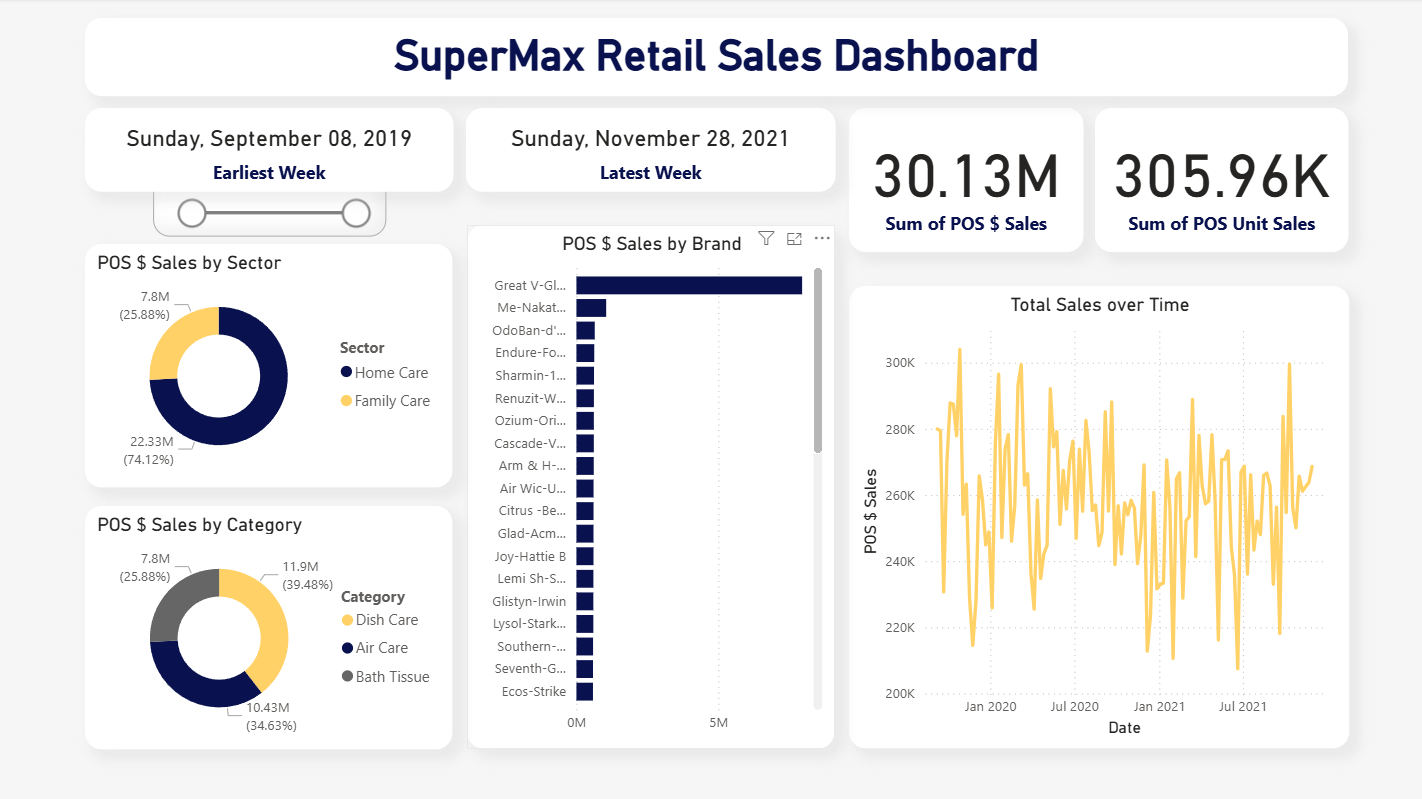

The page's visual inventory and layout, read from the dashboard file:
{"tool":"powerbi","page":{"name":"Page 1","canvas":[1280,720],"ordinal":0},"visuals":[{"type":"slicer","title":"Week","fields":{"Values":["Table2 (3).WeekIndex"]},"box":[140.6,130.7,208.7,83.3],"z":0},{"type":"card","fields":{"Values":["Sum(Table2 (3).POS $ Sales)"]},"box":[763.8,98.8,210,128.8],"z":1000},{"type":"textbox","box":[79.9,18,1131.1,69.9],"z":2000},{"type":"card","fields":{"Values":["Sum(Table2 (3).POS Unit Sales)"]},"box":[984.2,98.9,226.8,128.9],"z":3000},{"type":"card","fields":{"Values":["Min(Table2 (3).Week)"]},"box":[79.9,98.9,329.7,74.9],"z":4000},{"type":"card","fields":{"Values":["Max(Table2 (3).Week)"]},"box":[420.7,98.9,330.7,74.9],"z":5000},{"type":"lineChart","title":"Total Sales over Time","fields":{"Y":["Sum(Table2 (3).POS $ Sales)"],"Category":["Table2 (3).Week.Variation.Date Hierarchy.Year","Table2 (3).Week.Variation.Date Hierarchy.Quarter","Table2 (3).Week.Variation.Date Hierarchy.Month","Table2 (3).Week.Variation.Date Hierarchy.Day"]},"box":[763.5,258.3,447.7,413.9],"z":6000},{"type":"clusteredBarChart","title":"POS $ Sales by Brand","fields":{"Category":["Table2 (3).Brand"],"Y":["Sum(Table2 (3).POS $ Sales)"]},"box":[421.8,203,329.3,469.1],"z":7000},{"type":"donutChart","title":"POS $ Sales by Sector","fields":{"Category":["Table2 (3).Sector"],"Y":["Sum(Table2 (3).POS $ Sales)"]},"box":[80,220,329.4,217.5],"z":8000},{"type":"donutChart","title":"POS $ Sales by Category","fields":{"Category":["Table2 (3).Category"],"Y":["Sum(Table2 (3).POS $ Sales)"]},"box":[80.1,454.5,329.3,217.7],"z":9000}]}

Visuals, with their boxes in screenshot pixels (x1, y1, x2, y2), scaled from the page's 1280x720 canvas onto the 1422x799 screenshot:
"Week" slicer: (156,145,388,237)
card - Sum(Table2 (3).POS $ Sales): (849,110,1082,253)
textbox: (89,20,1345,98)
card - Sum(Table2 (3).POS Unit Sales): (1093,110,1345,253)
card - Min(Table2 (3).Week): (89,110,455,193)
card - Max(Table2 (3).Week): (467,110,835,193)
"Total Sales over Time" lineChart: (848,287,1346,746)
"POS $ Sales by Brand" clusteredBarChart: (469,225,834,746)
"POS $ Sales by Sector" donutChart: (89,244,455,486)
"POS $ Sales by Category" donutChart: (89,504,455,746)
